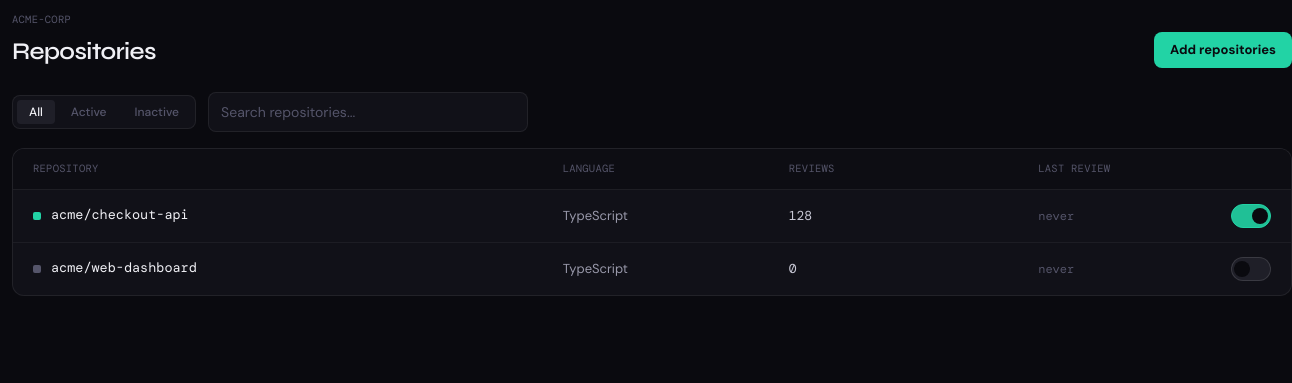
Test: ReposList › shows plan limit banner when activation returns 403
The width and height of the screenshot is (1292, 383).
Check: the text "acme/web-dashboard" is shown, box [51,258,197,279]
Click the button named "Activate".
click(1251, 268)  # box [1231,256,1271,280]
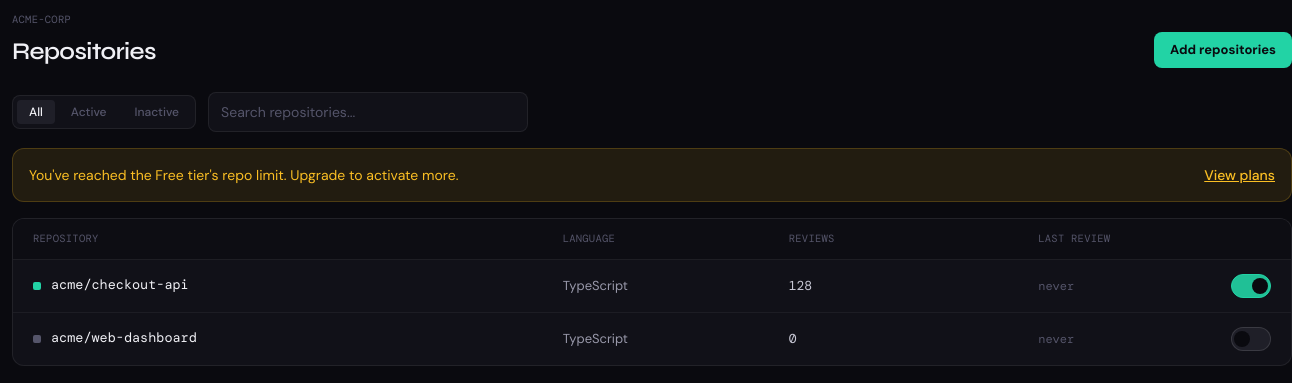
Check: the text "reached the Free tier's repo limit" is shown, box [29,166,458,184]
